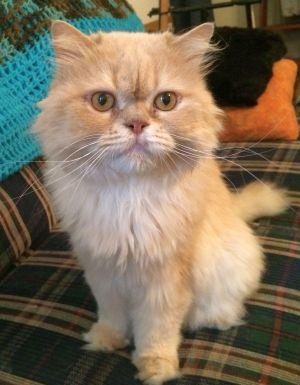persian: (35, 10, 227, 202)
